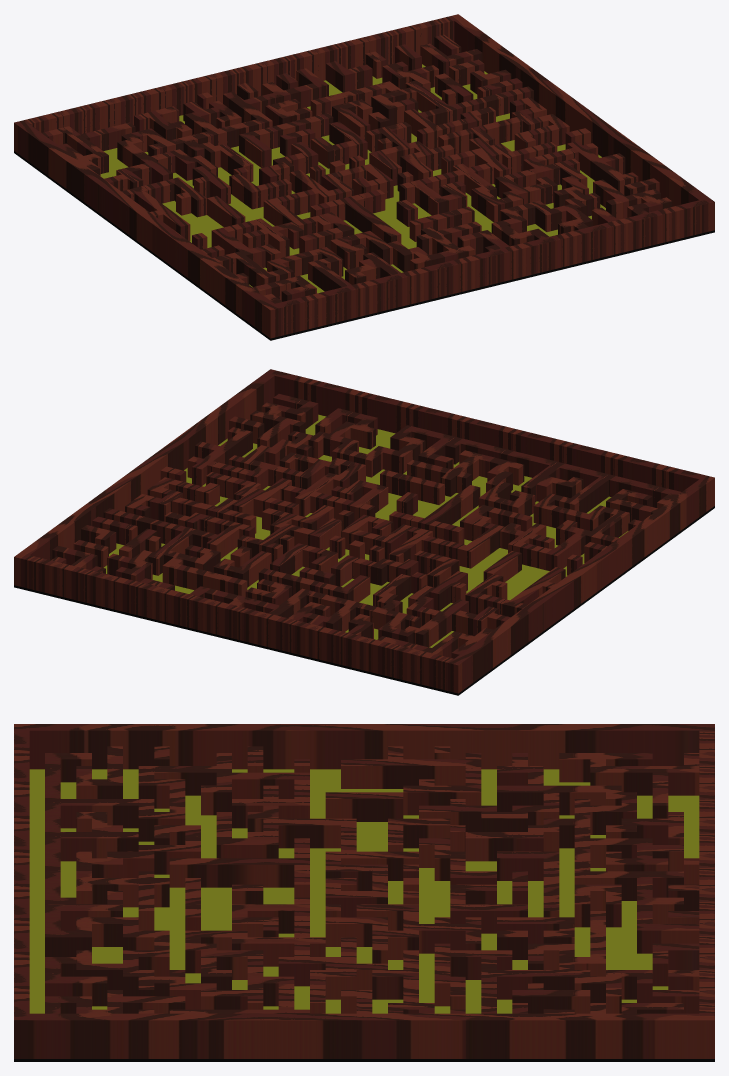
File: laberinto-difícil.fbx
3 renders of one model, top to bottom at view 1: azimuth 30°, elevation 25°; view 2: azimuth 150°, elevation 25°; view 3: azimuth 270°, elevation 25°, orthographic. The views are drawn at different scales.
Visible parts, largest first — view 1: Box002; view 2: Box002; view 3: Box002.
Boxes of the visible parts, <box> form: Box002: <box>14,14,714,340</box>; Box002: <box>14,369,714,695</box>; Box002: <box>14,724,714,1061</box>.
Bounding box in the file's own units: 420 × 27.46 × 420.
